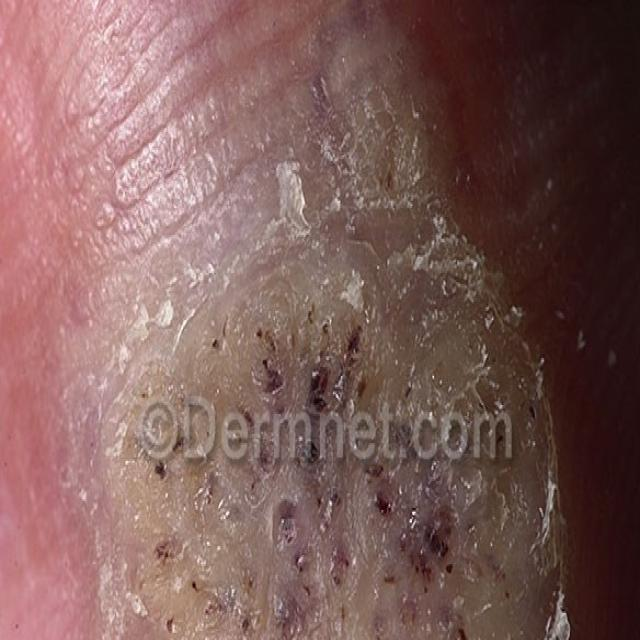Warts: (56, 87, 598, 640)
